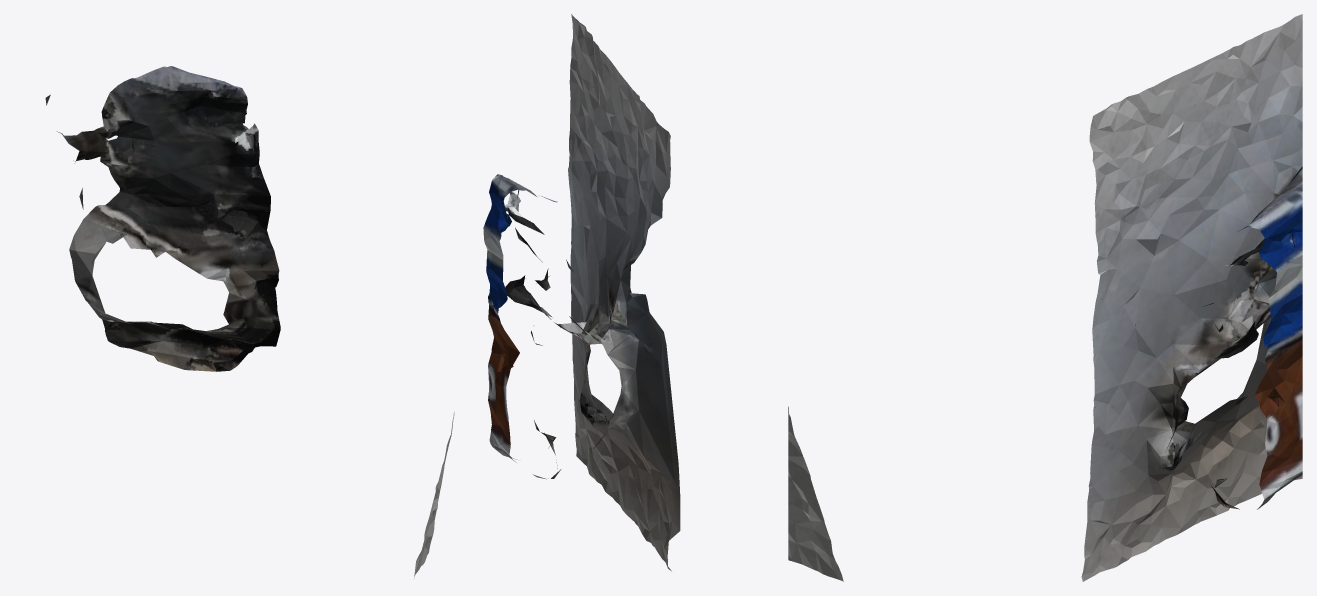
The picture shows the model from 3 angles, left to right: view 1: azimuth 30°, elevation 25°; view 2: azimuth 150°, elevation 25°; view 3: azimuth 270°, elevation 25°; orthographic projection. The views are drawn at different scales.
Size of the model in its own units: 0.4115 by 0.8374 by 0.8374.
Materials: 2 (2 with a texture image).
